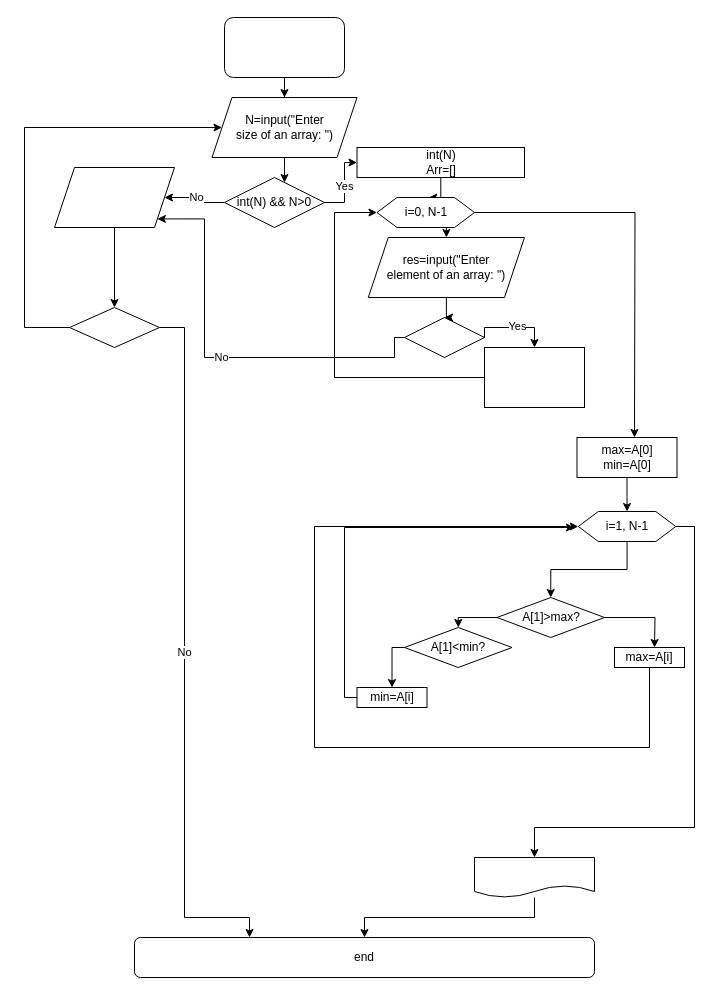
Some shapes in this 720 by 995 pixel diagram are drawn without their labels. The shapes that lost their labels are listed below. From the top down, each one's centre as x and y in pixels, then its label:
(284,47): Search of indexes of mix and max elements in the array
(114,197): res=input("error. Try again?")
(114,327): res=='yes'
(444,337): int(res)
(534,377): Arr[i]=int(res) i+=1
(534,877): print(max, min)
